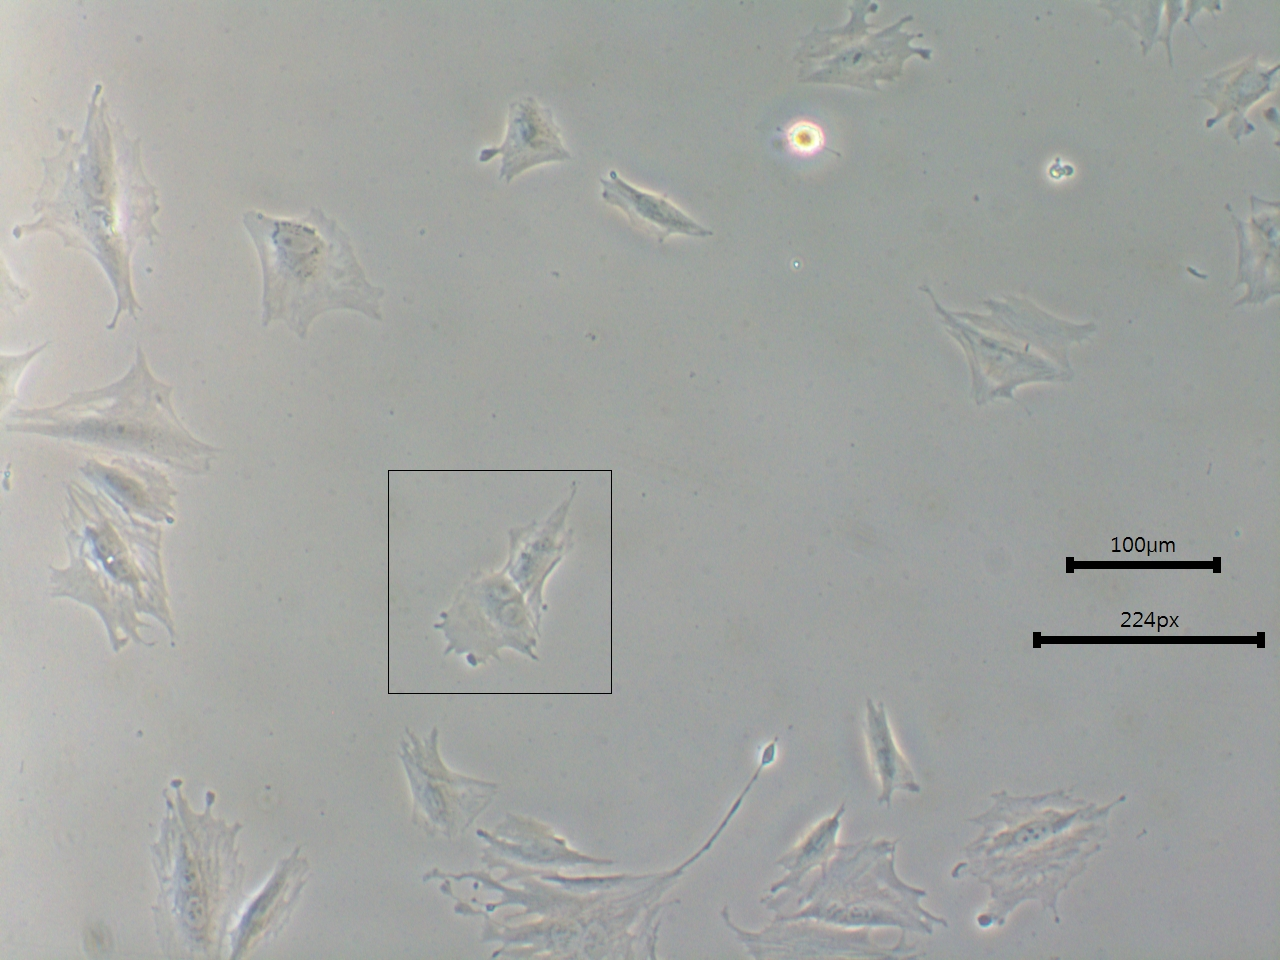dividing: (25, 80, 165, 332), (920, 276, 1120, 419), (126, 783, 240, 960)
medium-polygonal: (19, 345, 220, 476)
medium-spread: (952, 787, 1128, 949), (245, 201, 399, 357), (774, 1, 931, 93), (383, 732, 492, 845)
small-polygonal: (591, 164, 724, 263), (478, 86, 579, 198), (845, 694, 922, 811)
small-spread: (1191, 45, 1280, 146)
